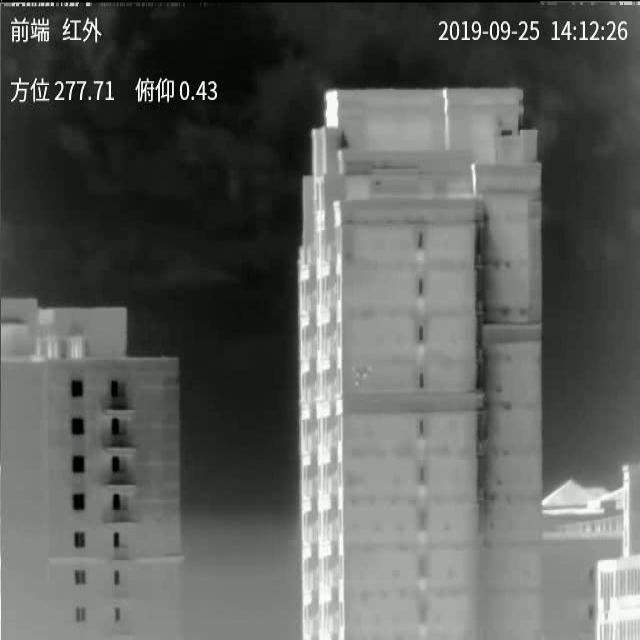drone: (351, 365, 373, 388)
